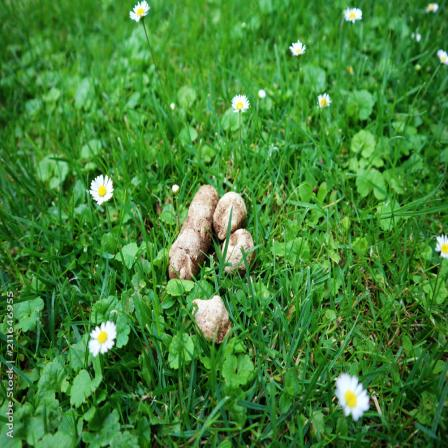dog-poop: (168, 172, 257, 342)
